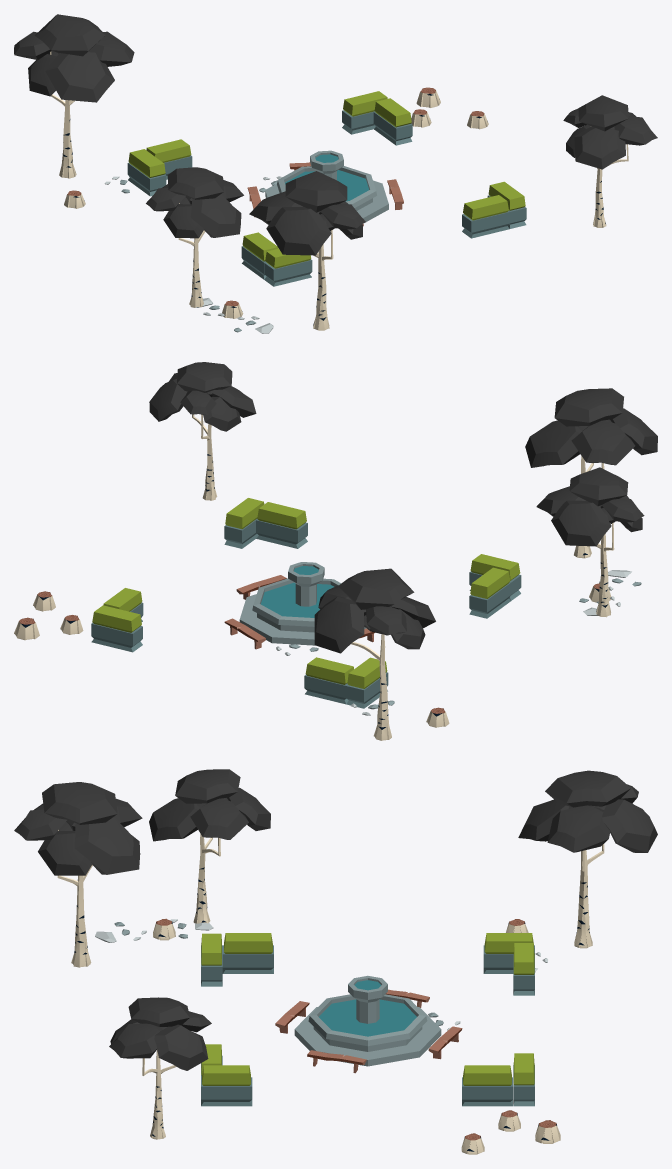
Rendered from SM_Fountain_LODS_Group.fbx.
3 views of the same model, one above another, from view 1: azimuth 30°, elevation 25°; view 2: azimuth 150°, elevation 25°; view 3: azimuth 270°, elevation 25° (orthographic). The views are drawn at different scales.
Visible parts, largest first — view 1: SM_Fountain_LOD0; view 2: SM_Fountain_LOD0; view 3: SM_Fountain_LOD0.
Part boxes in pixels (bbox=[...]): SM_Fountain_LOD0: bbox=[14, 14, 657, 333]; SM_Fountain_LOD0: bbox=[14, 362, 657, 740]; SM_Fountain_LOD0: bbox=[14, 769, 657, 1154].
Size of the model in its own units: 1483 by 1541 by 461.
